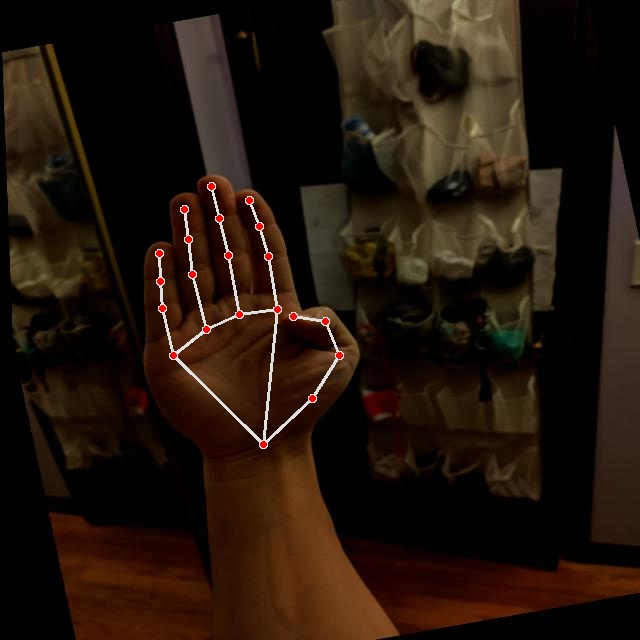B: (95, 149, 380, 471)
